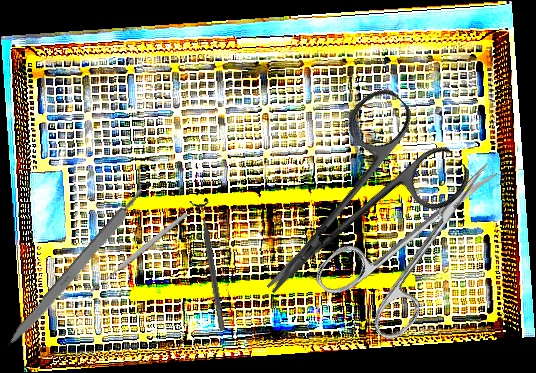Fixation Ring: (189, 197, 232, 333)
Iris Scissors: (218, 79, 478, 336), (310, 132, 532, 352)
Scalpel Handle: (3, 187, 150, 351)
Surgical Spoon: (87, 210, 190, 295)
